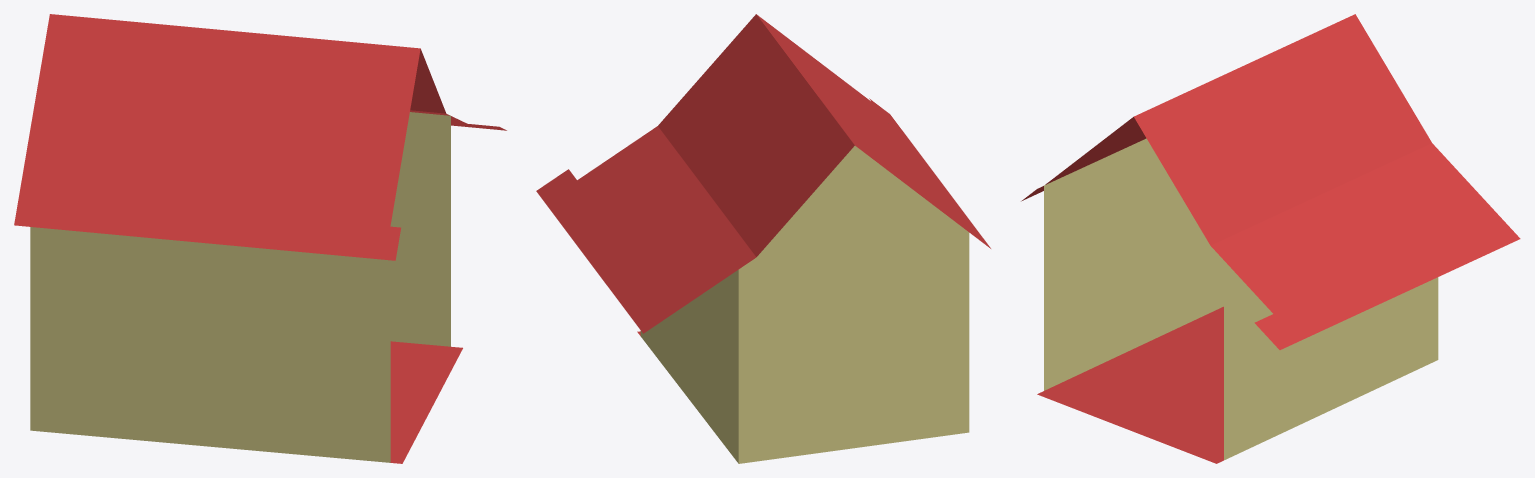
3 views of the same model, side by side, from view 1: azimuth 30°, elevation 25°; view 2: azimuth 150°, elevation 25°; view 3: azimuth 270°, elevation 25° (orthographic). The views are drawn at different scales.
Bounding box in the file's own units: 22.46 × 21.94 × 14.95.
